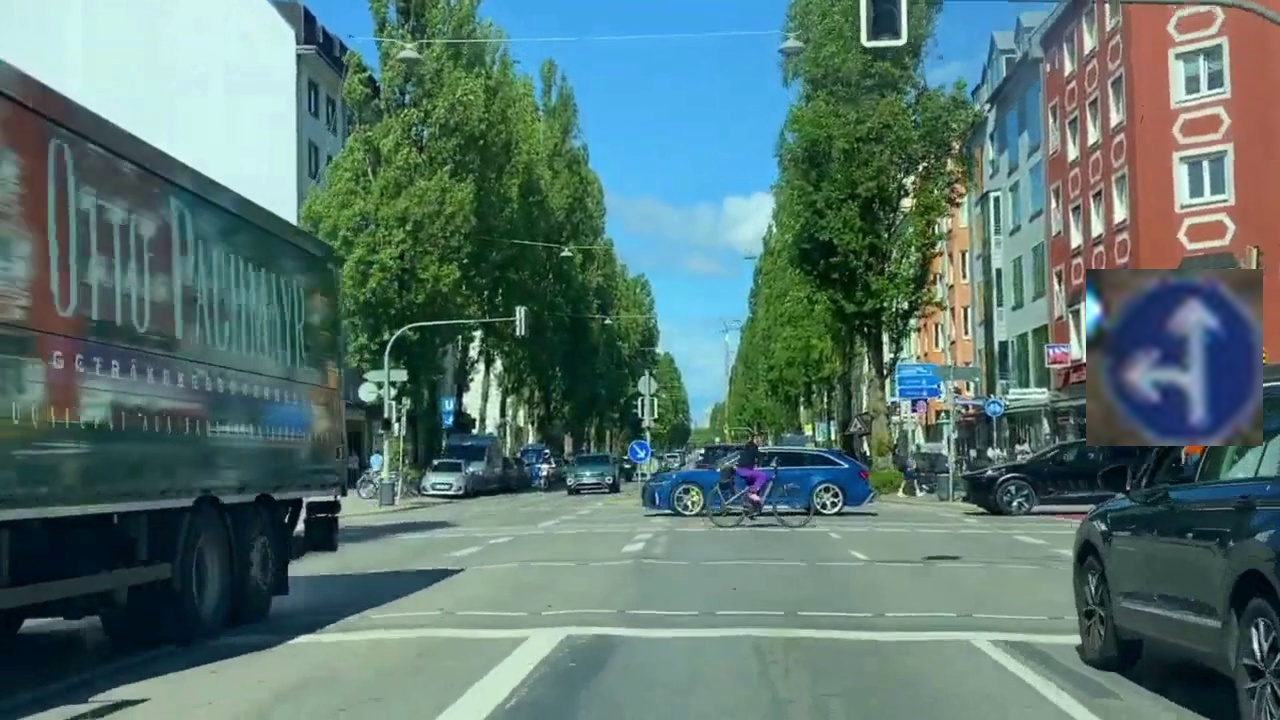Straight/left: (1086, 269, 1263, 446)
